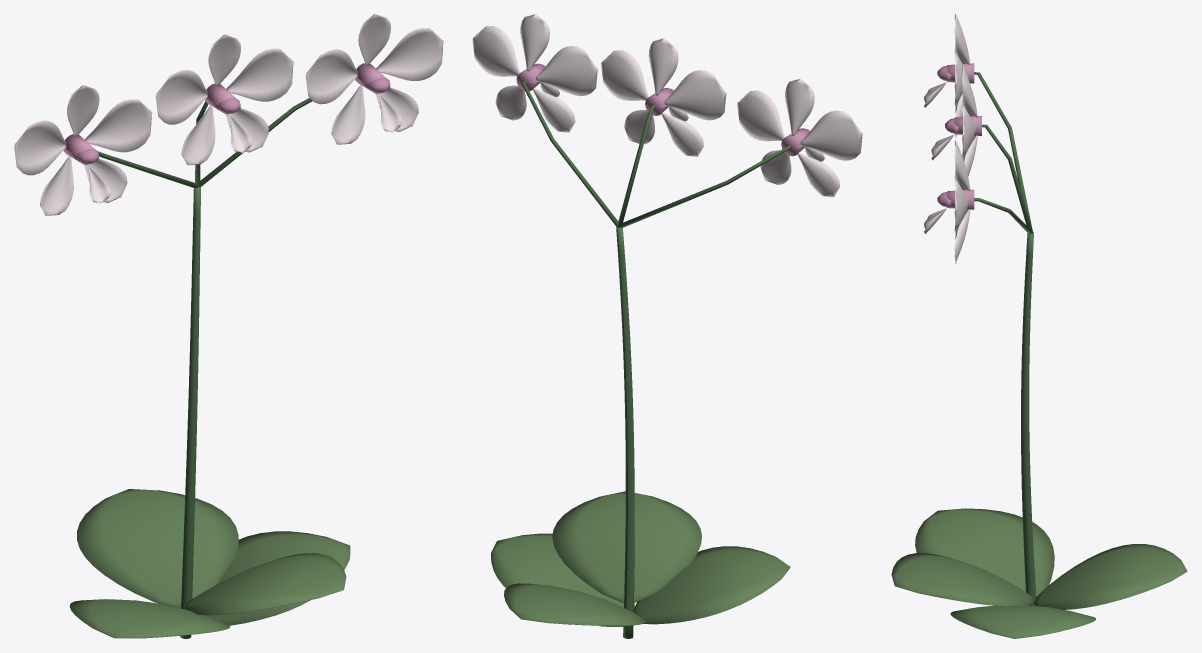
Rendered from orchid-fine-v2.glb.
3 renders of one model, left to right at view 1: azimuth 30°, elevation 25°; view 2: azimuth 150°, elevation 25°; view 3: azimuth 270°, elevation 25°, orthographic. The views are drawn at different scales.
Parts seen in each view (by area): view 1: orchid-fine-v2-leaf, orchid-fine-v2-petal, orchid-fine-v2-stem, orchid-fine-v2-center; view 2: orchid-fine-v2-leaf, orchid-fine-v2-petal, orchid-fine-v2-stem, orchid-fine-v2-center; view 3: orchid-fine-v2-leaf, orchid-fine-v2-stem, orchid-fine-v2-petal, orchid-fine-v2-center.
Part boxes in pixels (box(x1,y1,x2,y2)): orchid-fine-v2-leaf: box(69, 489, 350, 638); orchid-fine-v2-petal: box(14, 14, 443, 215); orchid-fine-v2-stem: box(98, 98, 312, 638); orchid-fine-v2-center: box(63, 63, 390, 164); orchid-fine-v2-leaf: box(491, 491, 790, 626); orchid-fine-v2-petal: box(472, 14, 862, 197); orchid-fine-v2-stem: box(522, 80, 791, 638); orchid-fine-v2-center: box(516, 63, 810, 156); orchid-fine-v2-leaf: box(891, 508, 1187, 638); orchid-fine-v2-stem: box(974, 72, 1036, 605); orchid-fine-v2-petal: box(924, 14, 977, 263); orchid-fine-v2-center: box(937, 63, 981, 209).
Size of the model in its own units: 1.44 by 2.03 by 0.9719.
